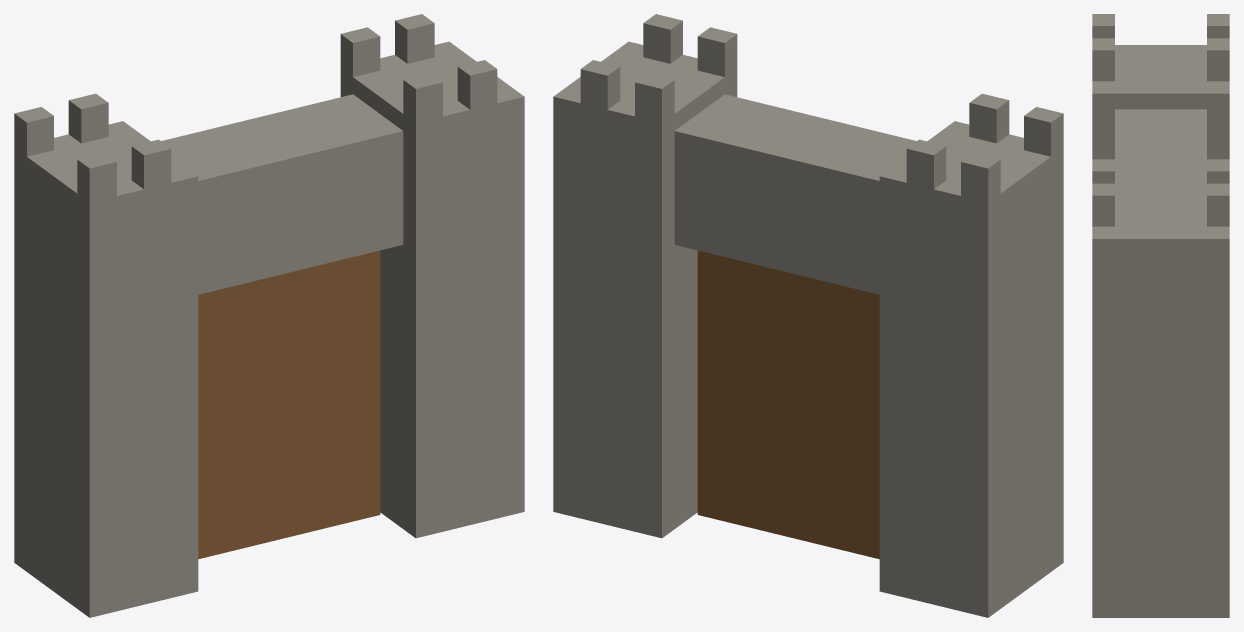
The model's file is bld_special_gate_a03.glb.
3 views of the same model, side by side, from view 1: azimuth 30°, elevation 25°; view 2: azimuth 150°, elevation 25°; view 3: azimuth 270°, elevation 25° (orthographic). The views are drawn at different scales.
Visible parts, largest first — view 1: body, door; view 2: body, door; view 3: body.
Part boxes in pixels (x1,y1,x2,y2): body: [14, 14, 524, 617]; door: [198, 250, 380, 559]; body: [553, 14, 1063, 617]; door: [697, 250, 879, 559]; body: [1092, 14, 1229, 617].
Size of what is drawn, in the model's own units: 8 by 7.9 by 2.4.
